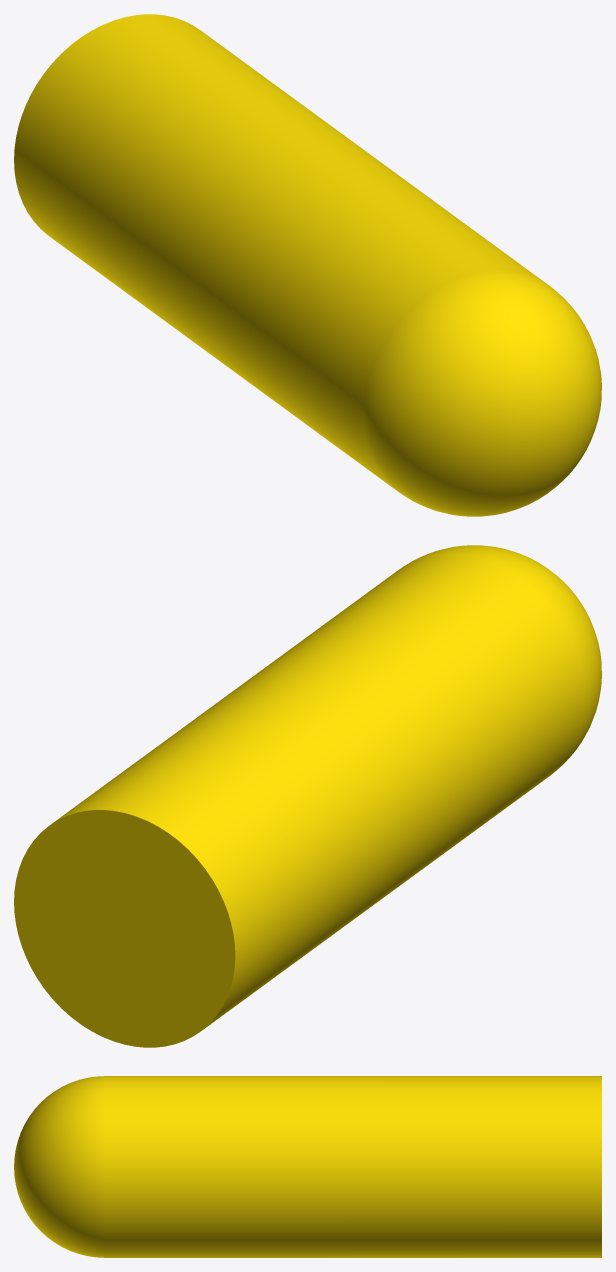
File: POWER ARCHITECTURE__SMARTPLUG INLET SYSTEM__Miniature Bayonet T3 1_4 Bulb & holder.glb
The picture shows the model from 3 angles, top to bottom: view 1: azimuth 30°, elevation 25°; view 2: azimuth 150°, elevation 25°; view 3: azimuth 270°, elevation 25°; orthographic projection. The views are drawn at different scales.
Visible parts, largest first — view 1: Miniature Bayonet T3 1/4 Bulb & holder; view 2: Miniature Bayonet T3 1/4 Bulb & holder; view 3: Miniature Bayonet T3 1/4 Bulb & holder.
Boxes of the visible parts, bbox=[...] form: Miniature Bayonet T3 1/4 Bulb & holder: bbox=[14, 14, 601, 516]; Miniature Bayonet T3 1/4 Bulb & holder: bbox=[14, 545, 601, 1047]; Miniature Bayonet T3 1/4 Bulb & holder: bbox=[14, 1076, 601, 1257].
Bounding box in the file's own units: 0.0175 × 0.0175 × 0.0565.
